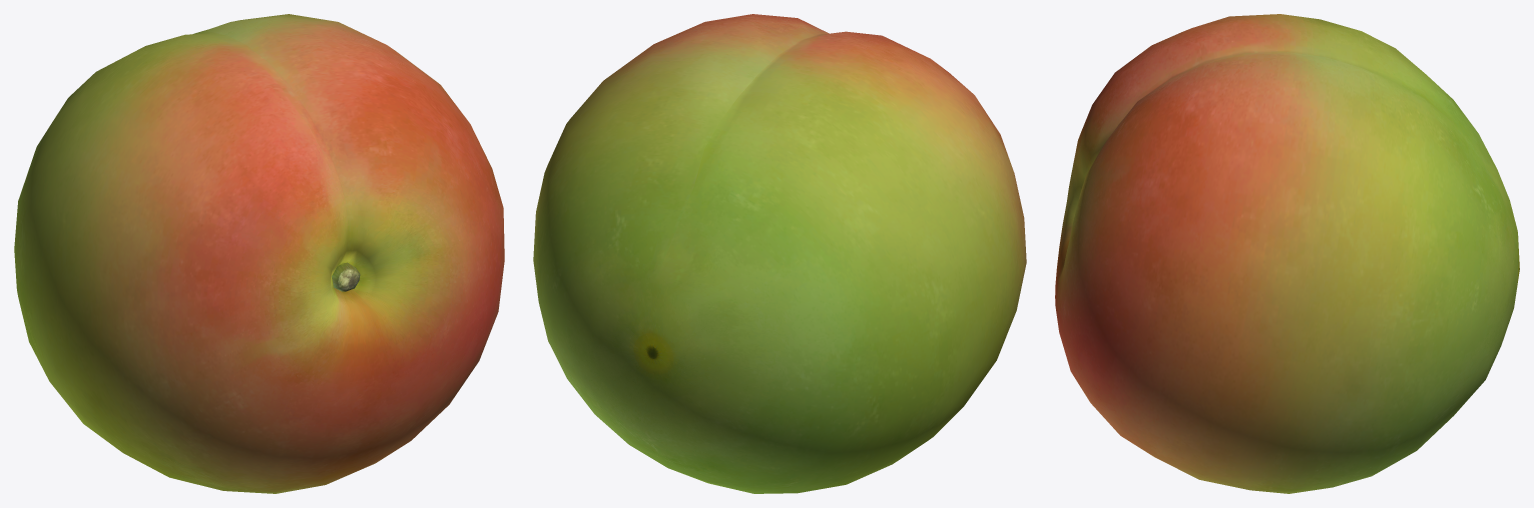
The model's file is Sibur.glb.
3 views of the same model, side by side, from view 1: azimuth 30°, elevation 25°; view 2: azimuth 150°, elevation 25°; view 3: azimuth 270°, elevation 25° (orthographic).
Parts seen in each view (by area): view 1: Sibur; view 2: Sibur; view 3: Sibur.
Boxes of the visible parts, left/top/right/bottom form: Sibur: left=14, top=14, right=504, bottom=493; Sibur: left=533, top=14, right=1026, bottom=493; Sibur: left=1055, top=14, right=1519, bottom=493.
Size of the model in its own units: 0.6026 by 0.5861 by 0.5835.
1 material, 1 textured.
